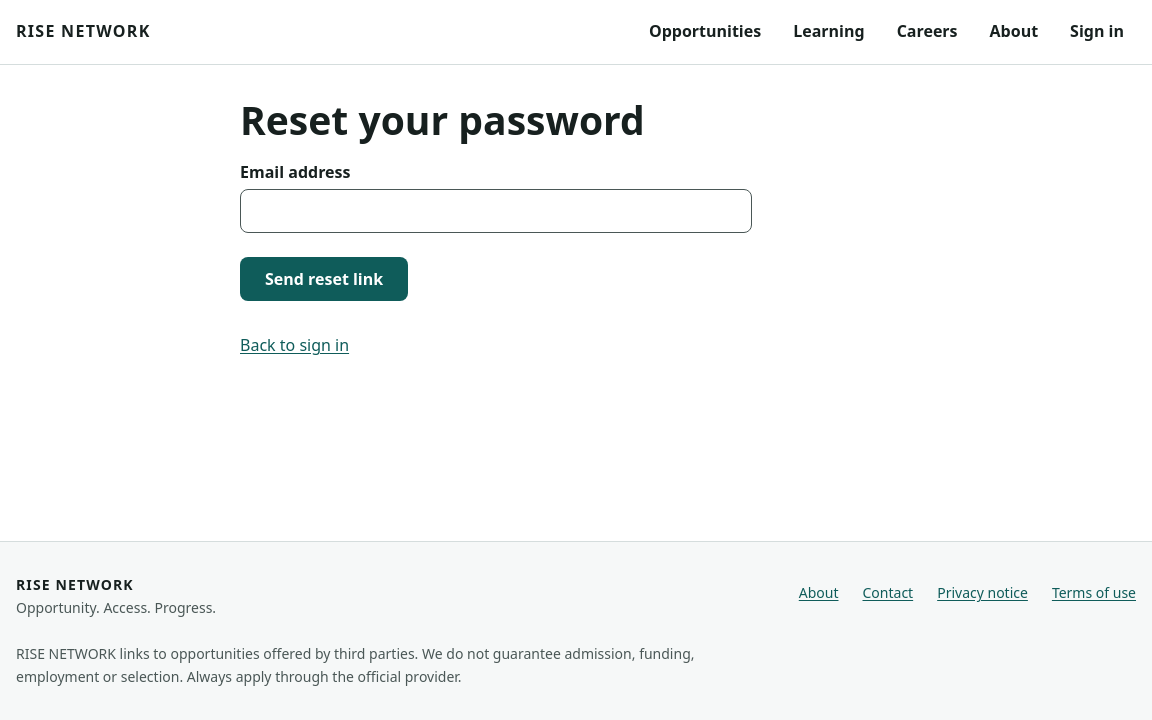
Test case: password reset › shows the same confirmation whatever the outcome
Expected: the heading "Reset your password" is shown, [240,93,645,146]
Type "nobody@example.com" into the field labelled "Email address" at (496, 212), box [240,190,752,234]
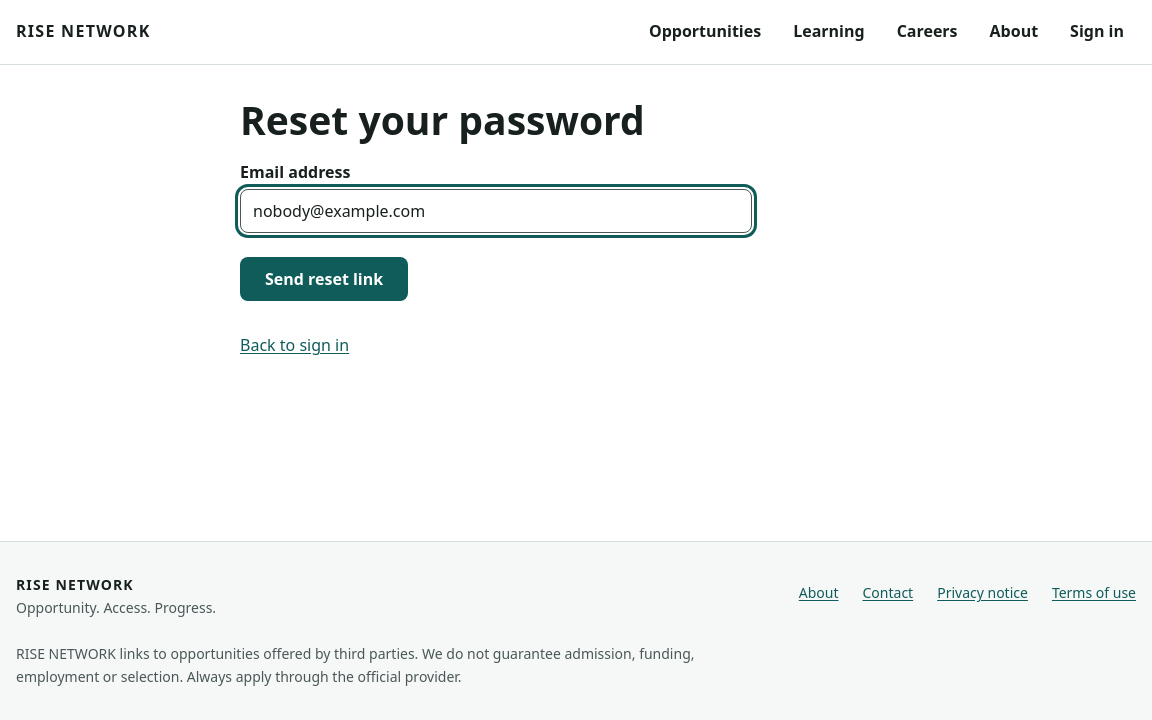
Click the button "Send reset link" at (324, 280), box [240,258,408,302]
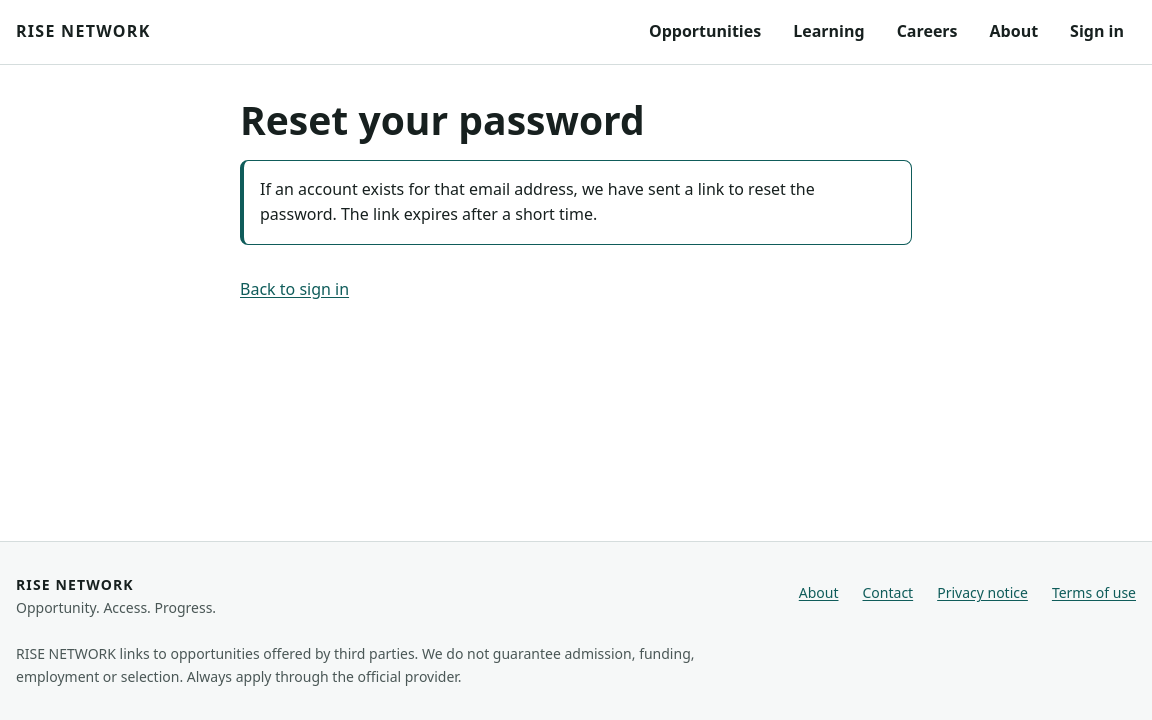
Now the message shows "If an account exists", box [260,178,815,226]
